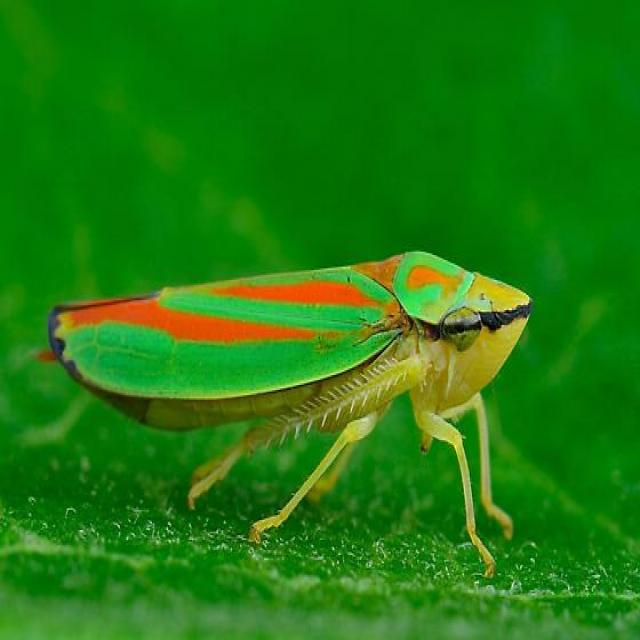Yechan: (37, 242, 560, 548)
